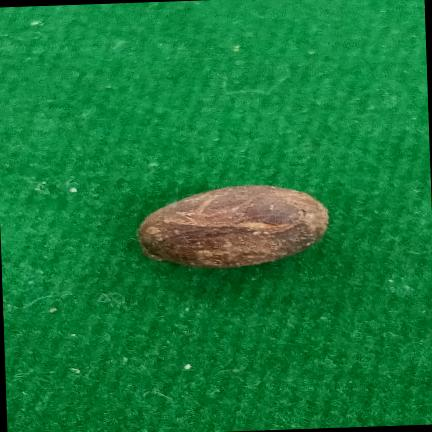husk: (138, 185, 328, 268)
